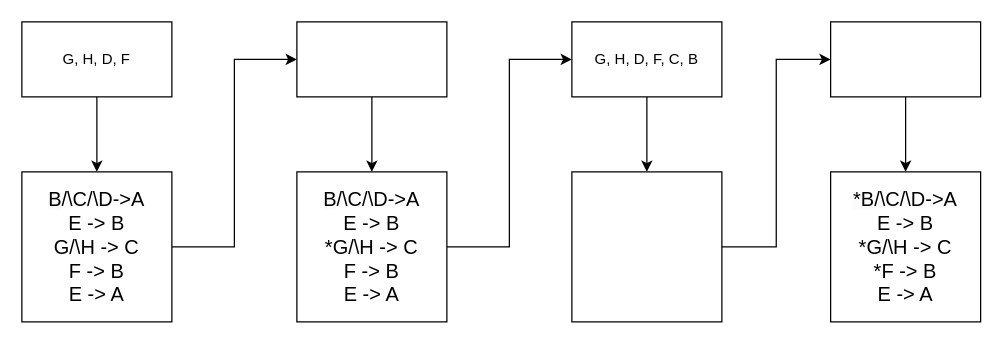
Some shapes in this 1003 by 344 pixel diagram are drawn without their labels. The centre of each missing label's shape, as x and y in pixels:
"B /\C /\D->A E -> B *G /\H -> C *F -> B E -> A" goes at pixel 646 246.
"G, H, D, F, C" goes at pixel 371 59.
"G, H, D, F, C, B, A" goes at pixel 905 59.
